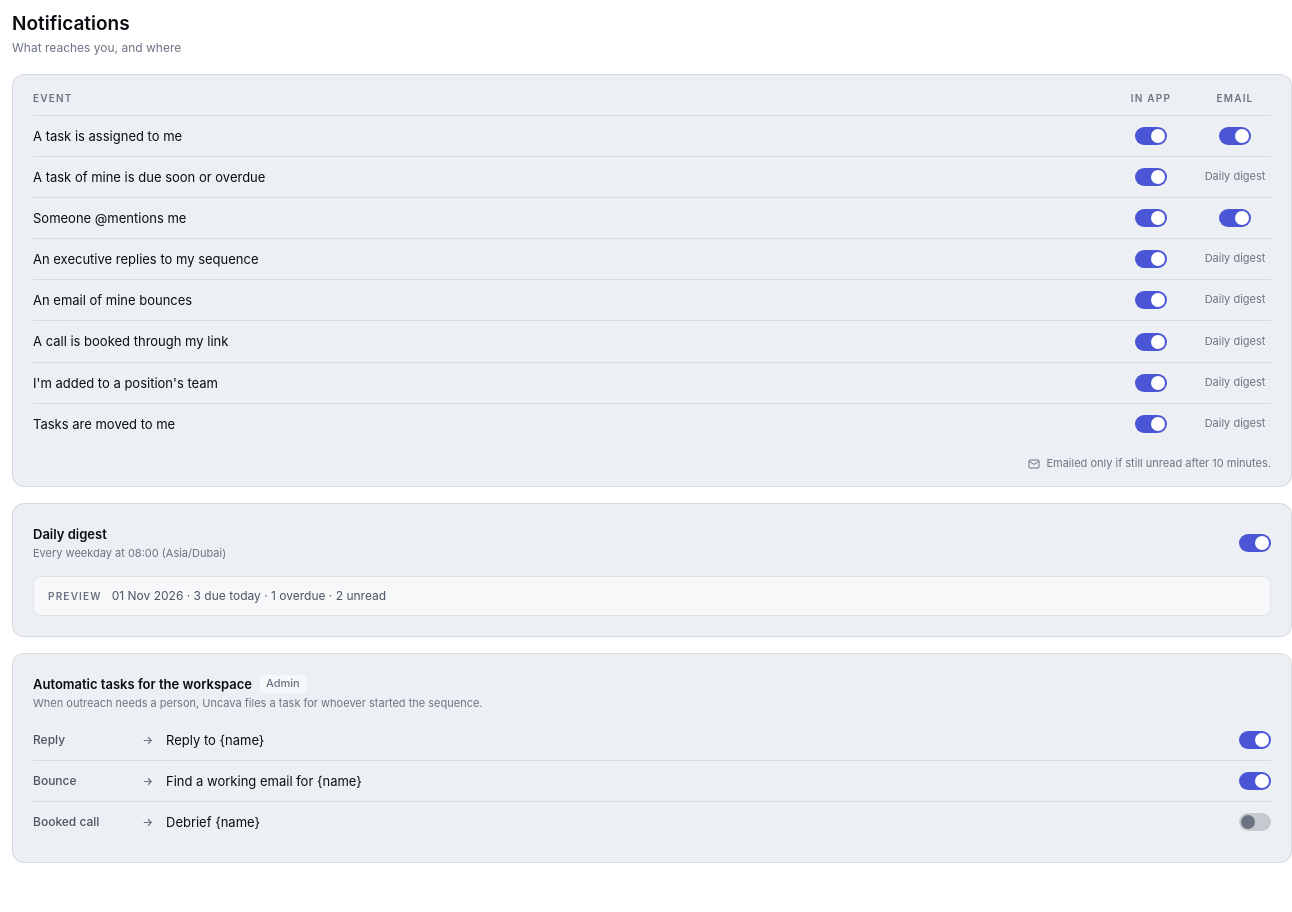
Test: SettingsNotificationsPage › switches the daily digest, which goes out in the person's own zone
Expected: the text "Every weekday at 08:00 (Asia/Dubai)" is shown, [33,546,226,560]
Expected: the text "01 Nov 2026 · 3 due today · 1 overdue · 2 unread" is shown, [112,587,386,605]
Click the switch named "Daily digest" at (1255, 543), box [1239,534,1271,552]
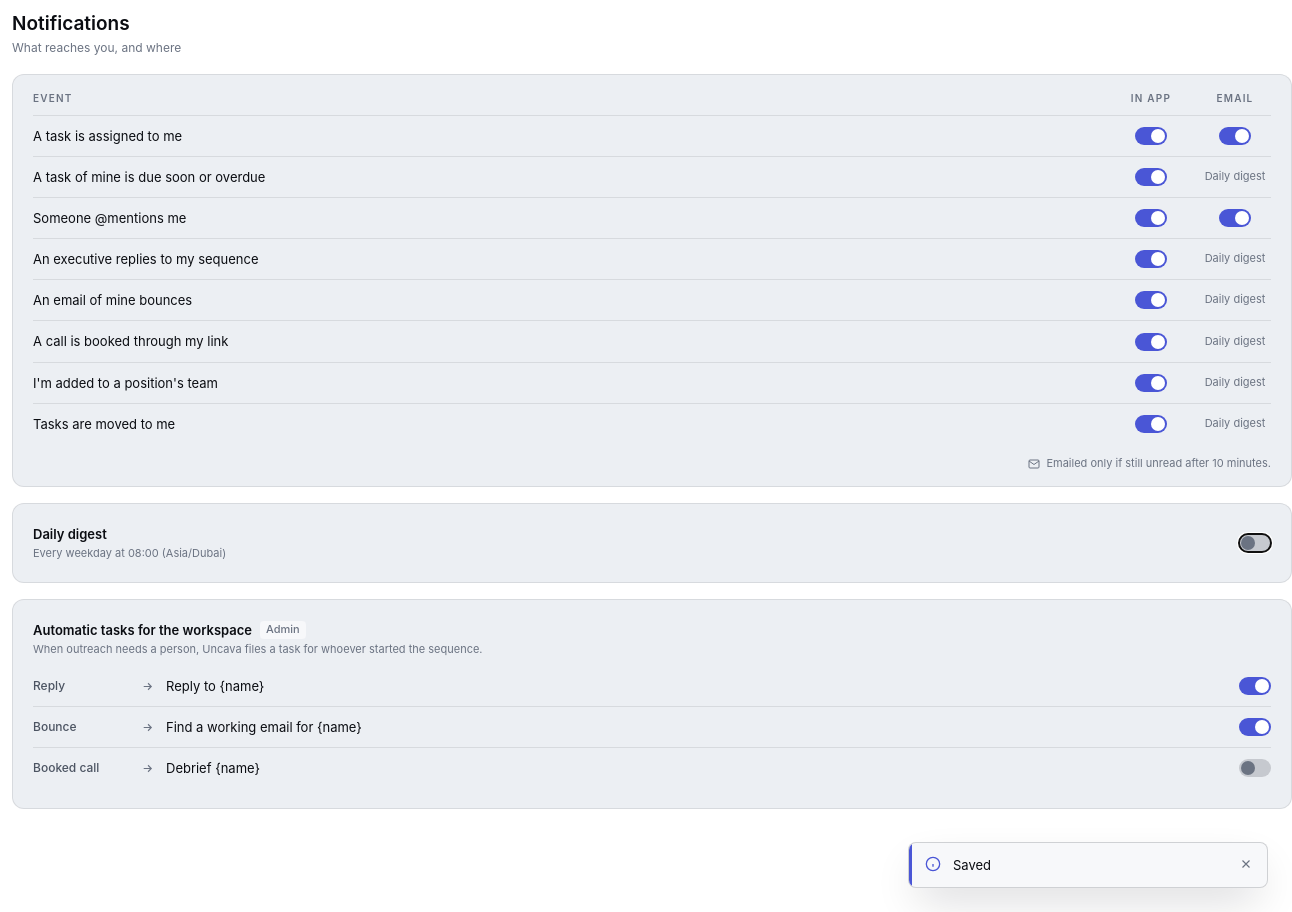
Expected: the text "due today" is gone
